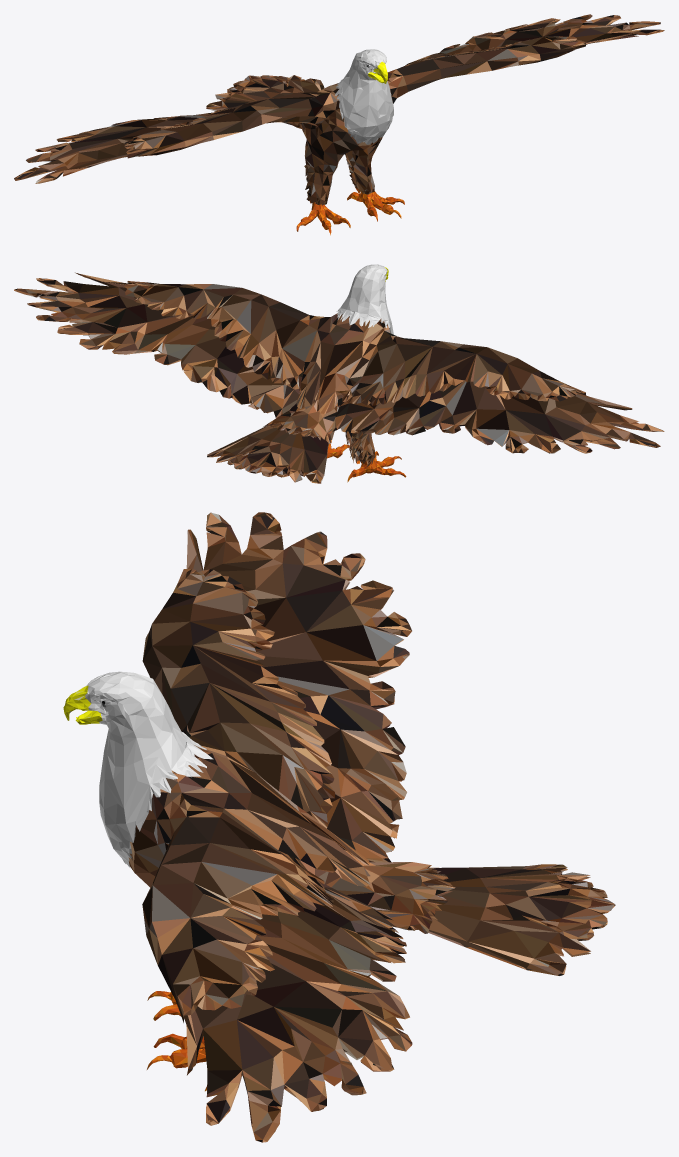
File: aguila.obj
The picture shows the model from 3 angles, top to bottom: view 1: azimuth 30°, elevation 25°; view 2: azimuth 150°, elevation 25°; view 3: azimuth 270°, elevation 25°; orthographic projection. The views are drawn at different scales.
Parts seen in each view (by area): view 1: Torso, Ala_Derecha, Ala_Izqioerda; view 2: Ala_Izqioerda, Ala_Derecha, Torso; view 3: Ala_Izqioerda, Ala_Derecha, Torso.
Boxes of the visible parts, bbox=[...] form: Torso: bbox=[206, 49, 404, 235]; Ala_Derecha: bbox=[14, 92, 335, 183]; Ala_Izqioerda: bbox=[323, 14, 664, 103]; Ala_Izqioerda: bbox=[14, 272, 325, 448]; Ala_Derecha: bbox=[337, 331, 664, 453]; Torso: bbox=[207, 264, 406, 483]; Ala_Izqioerda: bbox=[142, 799, 523, 1142]; Ala_Derecha: bbox=[142, 512, 411, 861]; Torso: bbox=[63, 671, 615, 1091].
Size of the model in its own units: 52.69 by 14.25 by 19.5.
5 materials, 5 textured.
